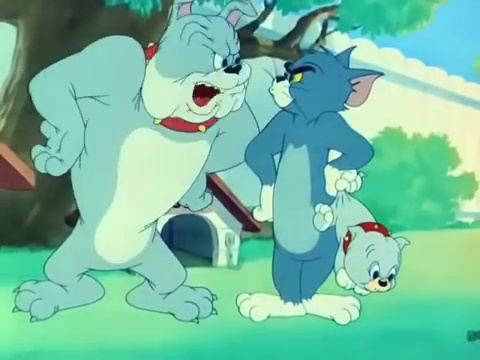spike: (140, 1, 262, 136)
tom: (266, 41, 387, 125)
